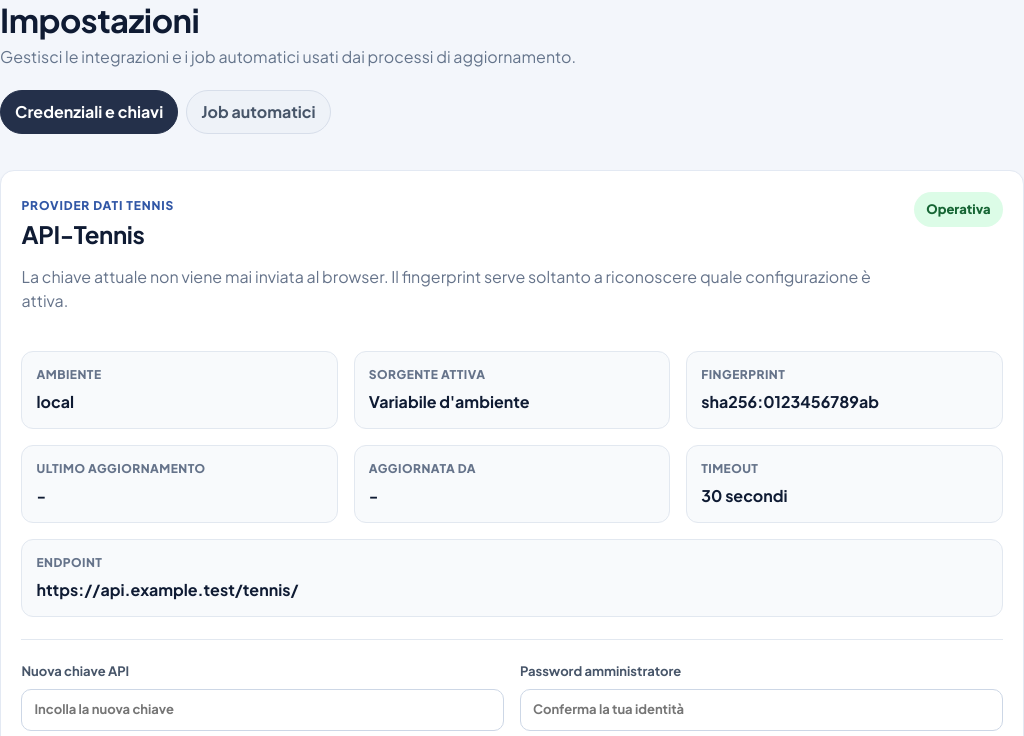
Test: SettingsPage › requires confirmation then verifies and activates the replacement
This screenshot has width=1024, height=736.
Type "replacement-key" into the password field labelled "Nuova chiave API" at (263, 710), box [22, 689, 504, 731]
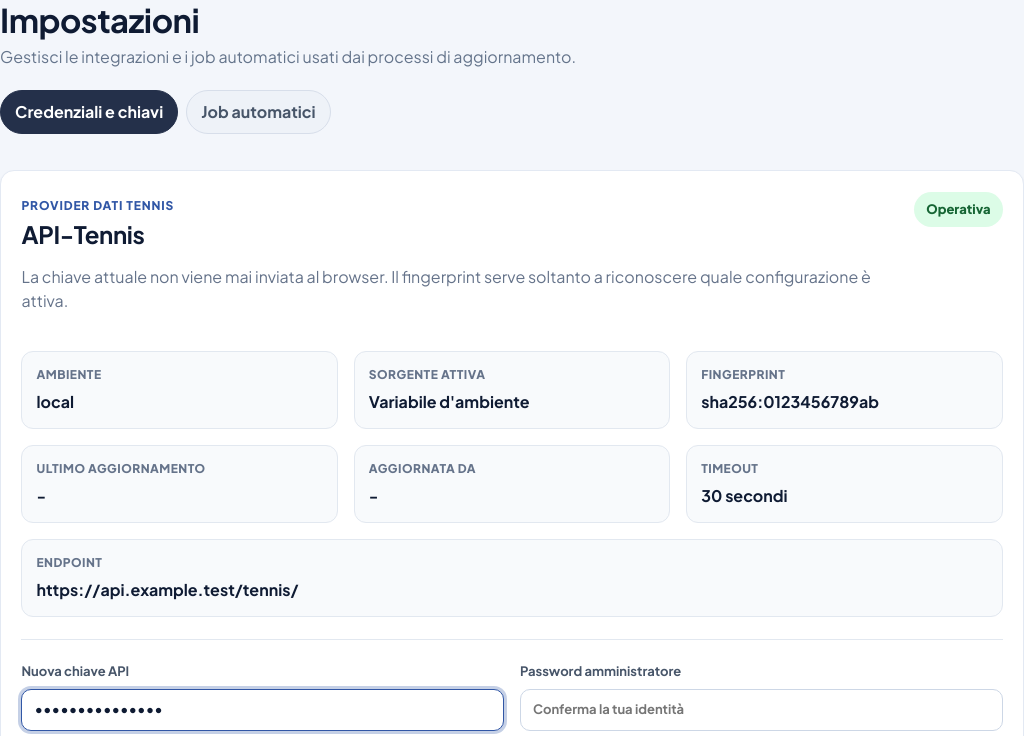
Type "admin-password" into the password field labelled "Password amministratore" at (761, 710), box [520, 689, 1002, 731]
(page scrolled)
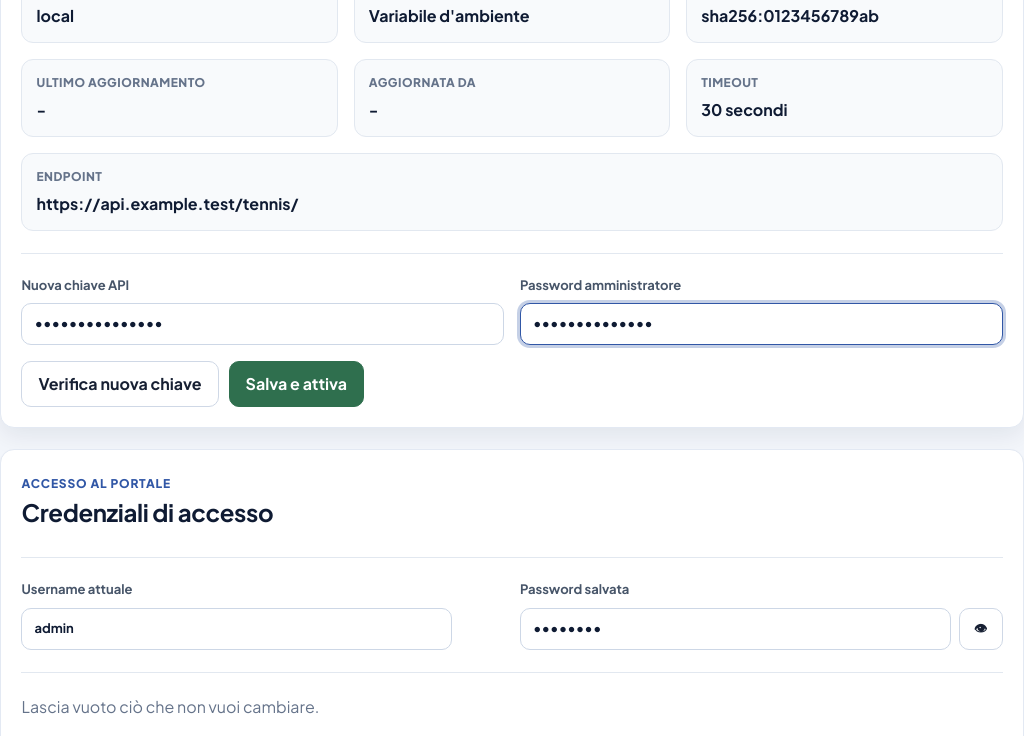
Click the button "Salva e attiva" at (296, 384), box [229, 361, 364, 407]
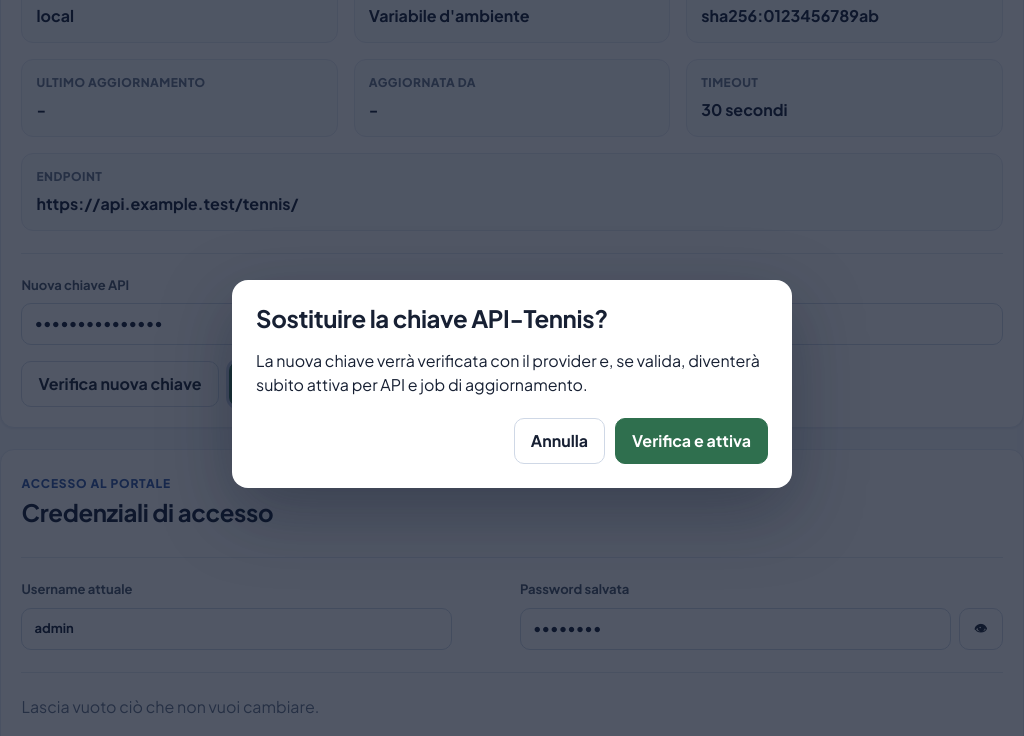
expect the heading "Sostituire la chiave API-Tennis?" is shown: met, box [256, 303, 608, 333]
Click the button "Verifica e attiva" at (692, 441), box [615, 418, 768, 464]
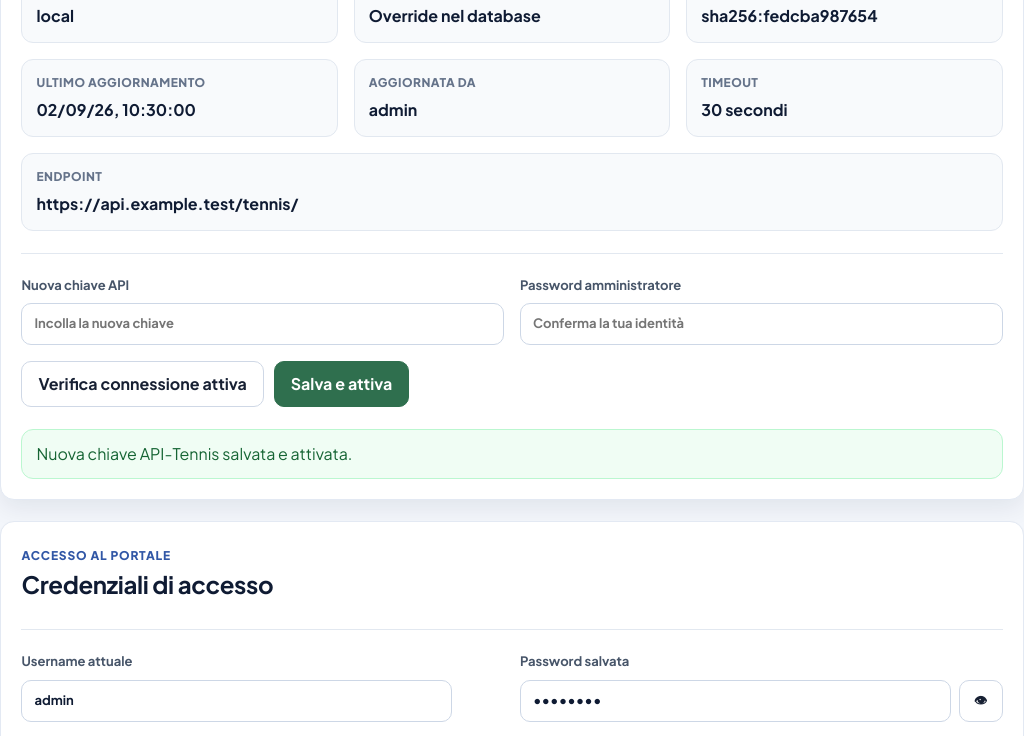
expect the text "Nuova chiave API-Tennis salvata e attivata." is shown: met, box [22, 429, 1003, 479]
expect the text "Override nel database" is shown: met, box [369, 4, 541, 26]
expect the password field labelled "Nuova chiave API" is empty: met, box [22, 303, 504, 345]
